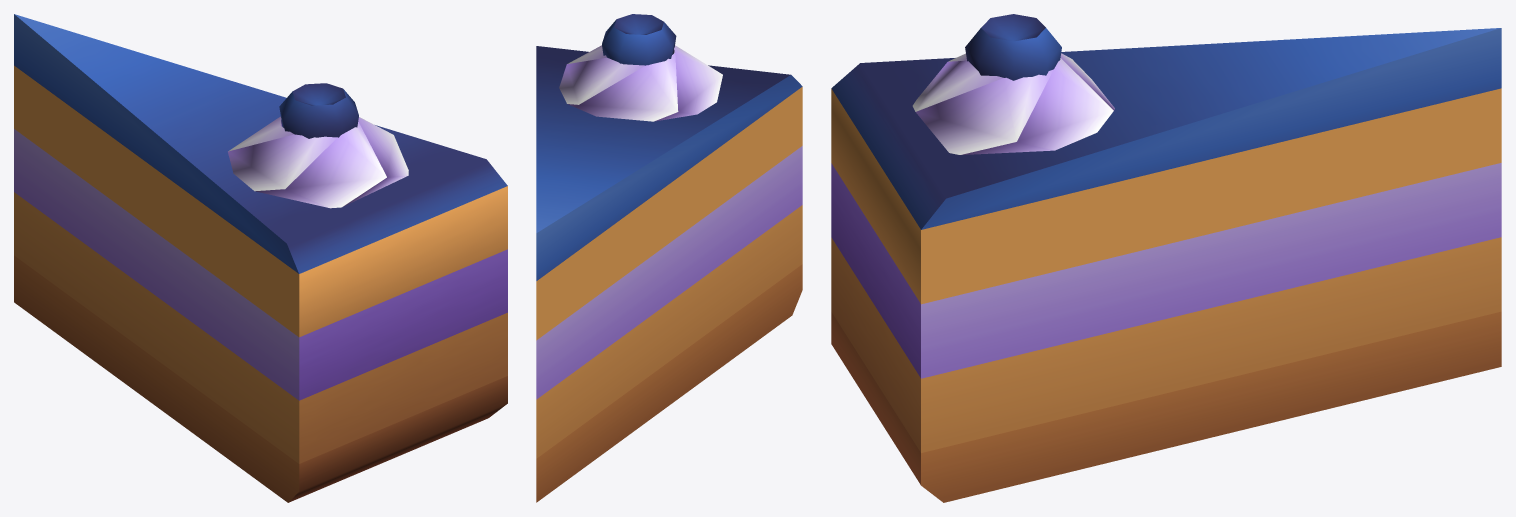
Rendered from m_BlueberryCake01_Slice.fbx.
3 renders of one model, left to right at view 1: azimuth 30°, elevation 25°; view 2: azimuth 150°, elevation 25°; view 3: azimuth 270°, elevation 25°, orthographic. The views are drawn at different scales.
Parts seen in each view (by area): view 1: m_BlueberryCake01_Slice; view 2: m_BlueberryCake01_Slice; view 3: m_BlueberryCake01_Slice.
Boxes of the visible parts, box(x1,y1,x2,y2) form: m_BlueberryCake01_Slice: box(14, 14, 507, 502); m_BlueberryCake01_Slice: box(536, 14, 802, 502); m_BlueberryCake01_Slice: box(831, 14, 1501, 502).
Size of the model in its own units: 7 by 9.1 by 14.
